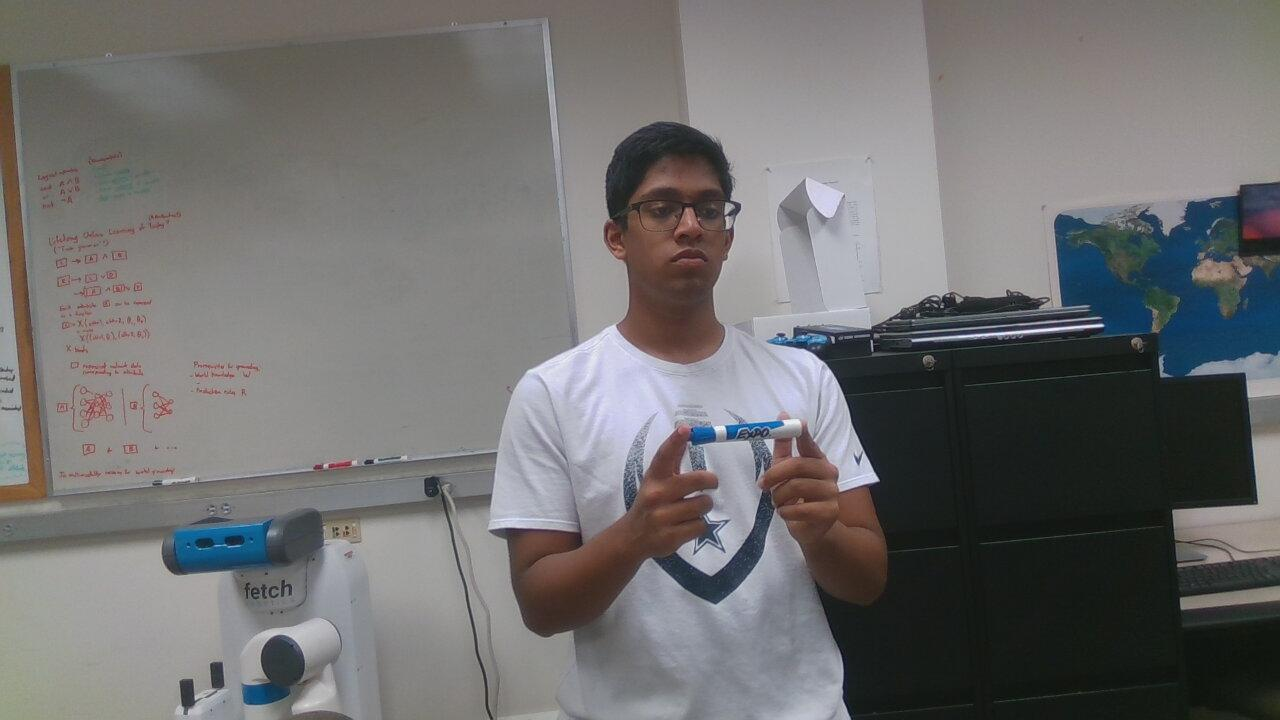hands: (622, 417, 716, 574), (766, 404, 846, 571)
